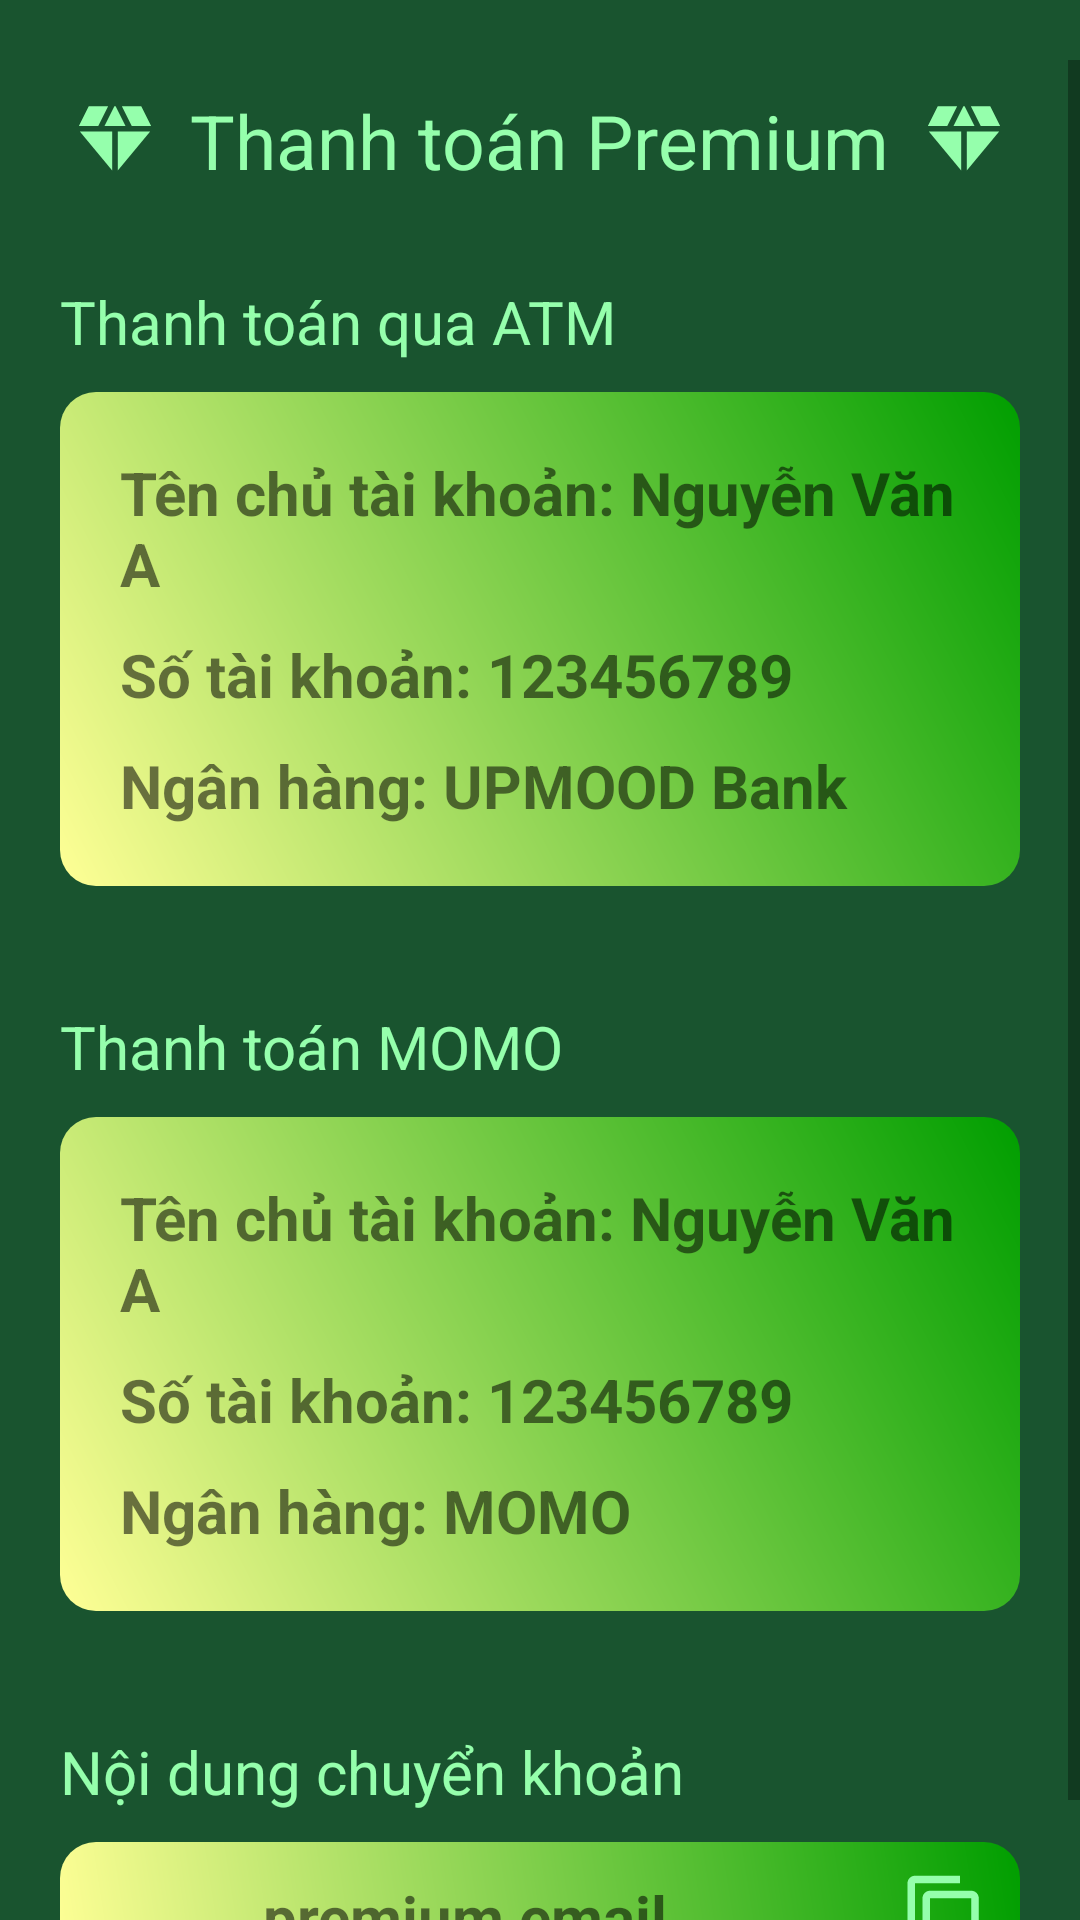

Icon bounding boxes for this 1080 × 1920 phone screenshot, format (x1, y1, x2, y2):
diamond: (79, 106, 151, 170), (928, 106, 1000, 170)
